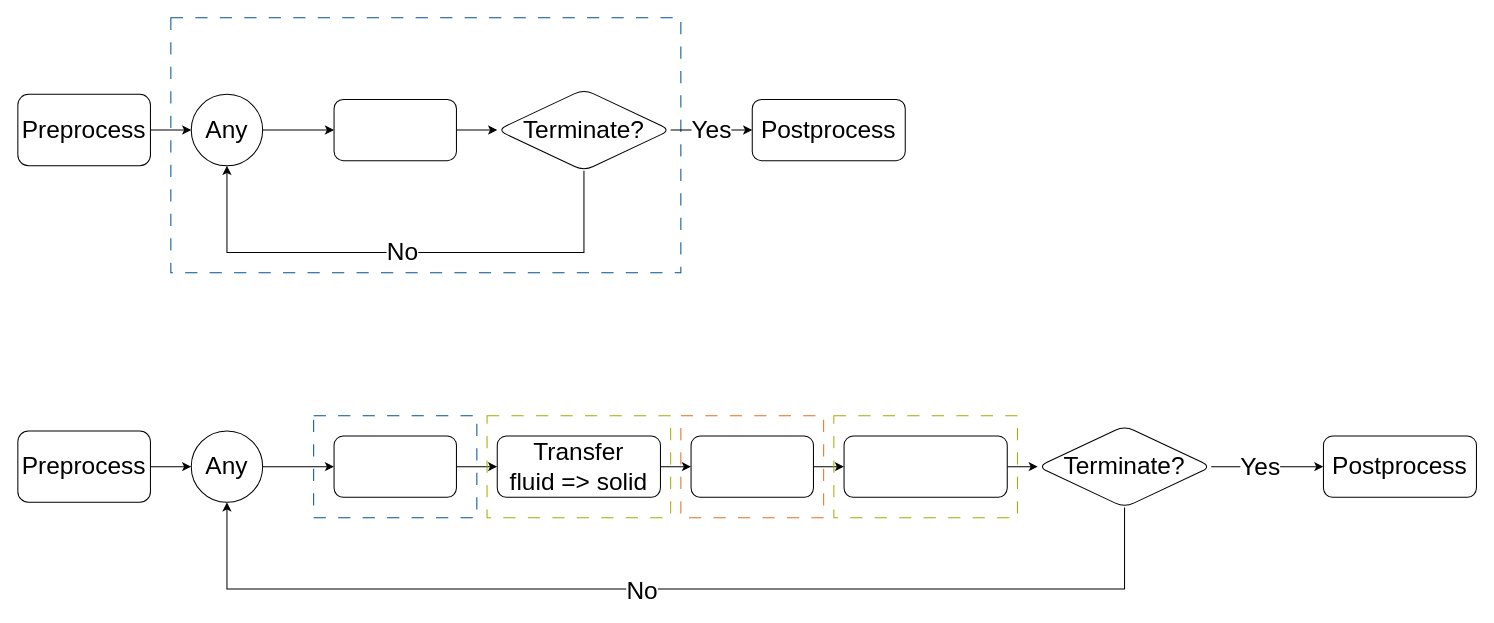
The diagram is 1494 pixels wide and 623 high, and some of its shapes have lost their labels. Each missing label, with the centre of its shape:
"Solve" belongs at [394,129].
"Solve fluid" belongs at [394,466].
"Solve solid" belongs at [751,466].
"Transfer solid => fluid" belongs at [925,466].
